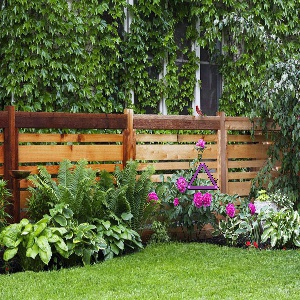triangle: (186, 161, 222, 193)
